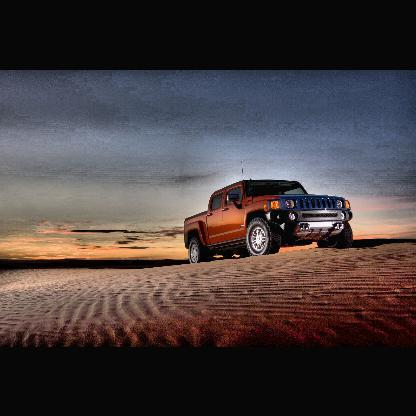HUMMER H3T Crew Cab 2010: (184, 163, 352, 264)
